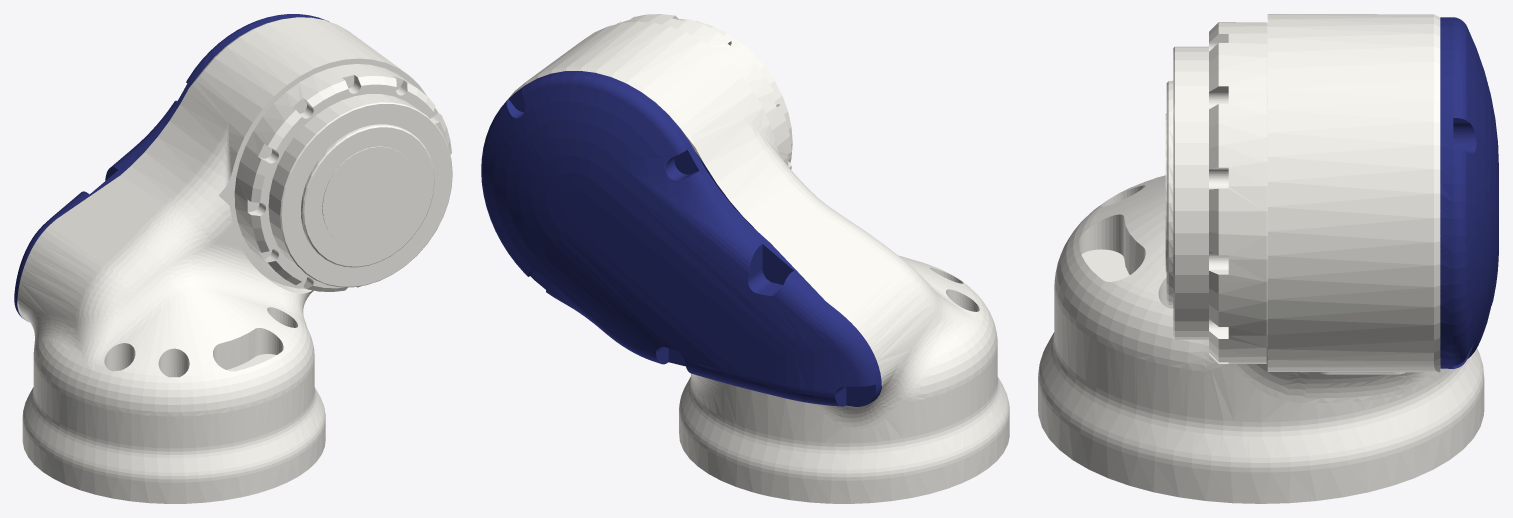
3 renders of one model, left to right at view 1: azimuth 30°, elevation 25°; view 2: azimuth 150°, elevation 25°; view 3: azimuth 270°, elevation 25°, orthographic. The views are drawn at different scales.
Parts seen in each view (by area): view 1: link_r_e; view 2: link_r_e; view 3: link_r_e.
Boxes of the visible parts, x1,y1,x2,y2 form: link_r_e: (14, 14, 452, 503); link_r_e: (481, 14, 1009, 503); link_r_e: (1038, 14, 1498, 503).
Size of the model in its own units: 0.2085 by 0.1415 by 0.168.
Materials: 1 (1 with a texture image).
